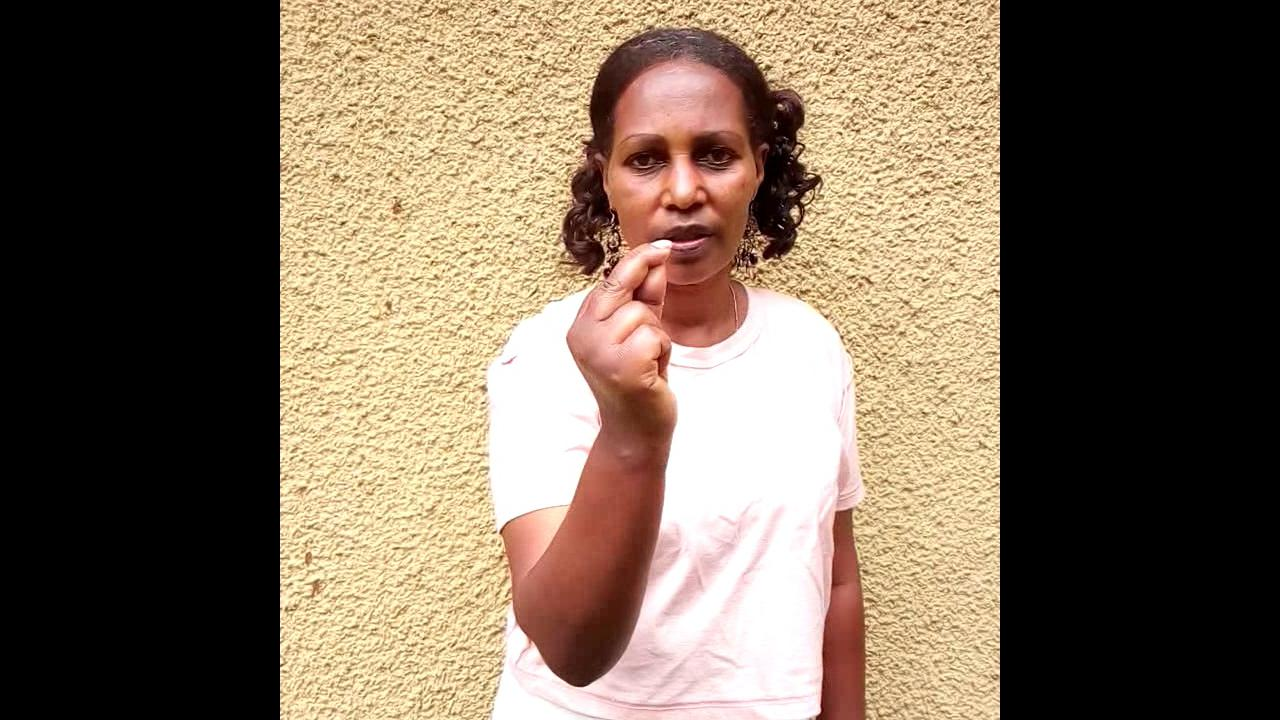CHE: (562, 239, 677, 623)
